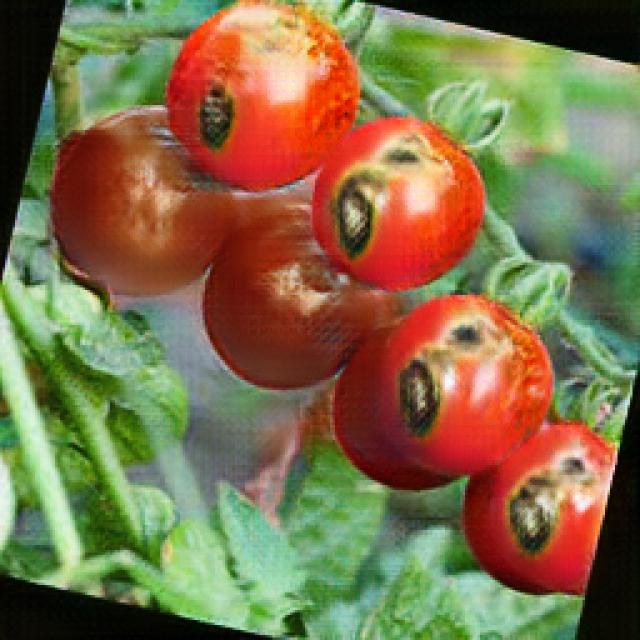overripe tomato: (307, 109, 503, 281), (172, 2, 351, 180), (369, 292, 547, 471), (460, 420, 624, 586)
